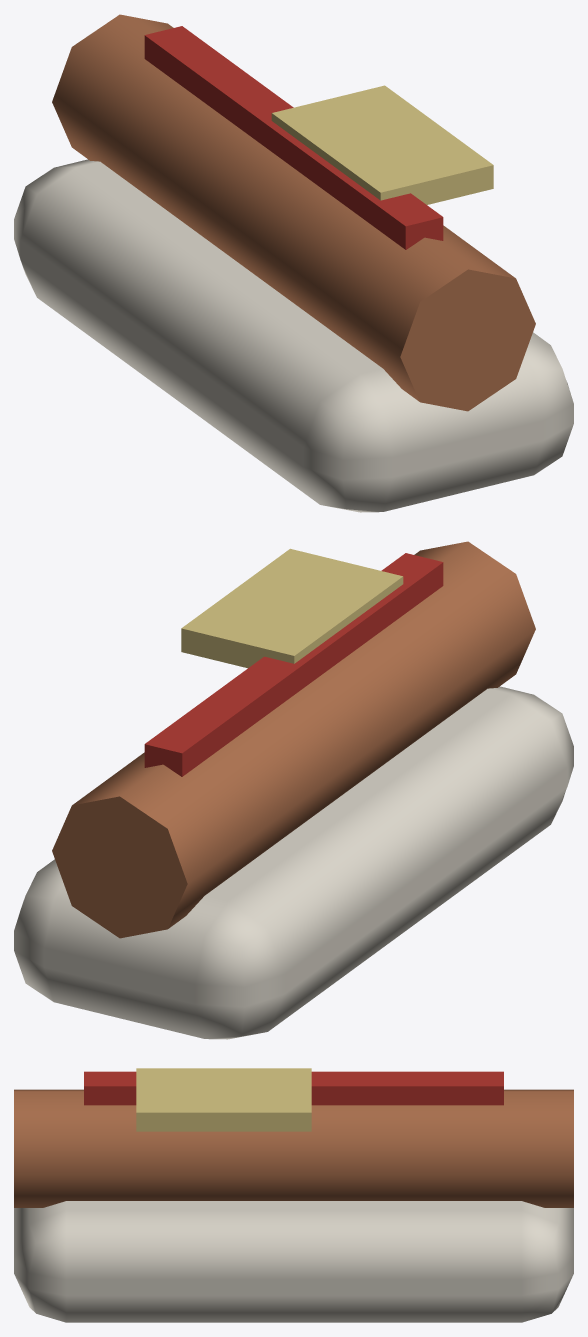
Rendered from snag.glb.
3 renders of one model, top to bottom at view 1: azimuth 30°, elevation 25°; view 2: azimuth 150°, elevation 25°; view 3: azimuth 270°, elevation 25°, orthographic. The views are drawn at different scales.
Parts seen in each view (by area): view 1: snag; view 2: snag; view 3: snag.
Boxes of the visible parts, x1=… form: snag: x1=14, y1=14, x2=573, y2=512; snag: x1=14, y1=541, x2=573, y2=1039; snag: x1=14, y1=1068, x2=573, y2=1322.
Bounding box in the file's own units: 0.07 × 0.069 × 0.16.
